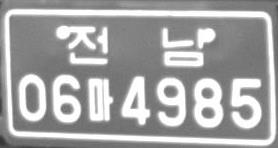0: (18, 72, 47, 121)
4: (121, 76, 150, 126)
5: (230, 77, 263, 129)
6: (51, 73, 82, 123)
8: (193, 77, 224, 128)
9: (156, 75, 186, 126)
마: (87, 77, 113, 122)
전남_D: (66, 25, 206, 68)
